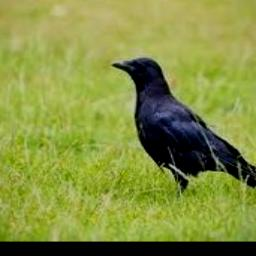Crow: (111, 57, 256, 203)
